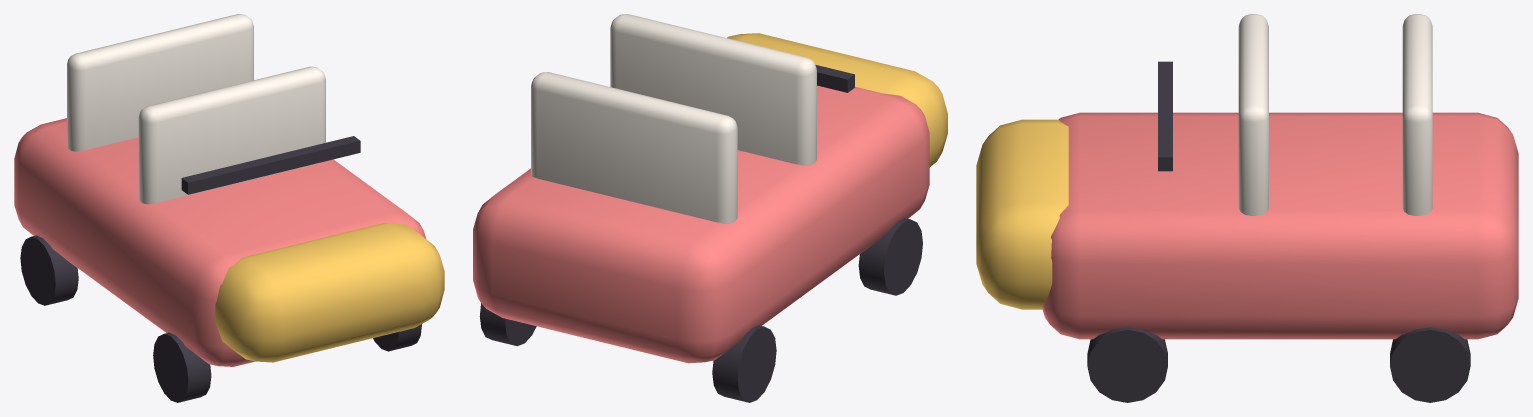
Rendered from coaster_car.glb.
3 renders of one model, left to right at view 1: azimuth 30°, elevation 25°; view 2: azimuth 150°, elevation 25°; view 3: azimuth 270°, elevation 25°, orthographic. The views are drawn at different scales.
Parts seen in each view (by area): view 1: coaster_car; view 2: coaster_car; view 3: coaster_car.
Part boxes in pixels (x1,y1,x2,y2): coaster_car: (14, 14, 444, 402); coaster_car: (473, 14, 947, 402); coaster_car: (976, 14, 1518, 402).
Size of the model in its own units: 1.22 by 1.22 by 2.15.
